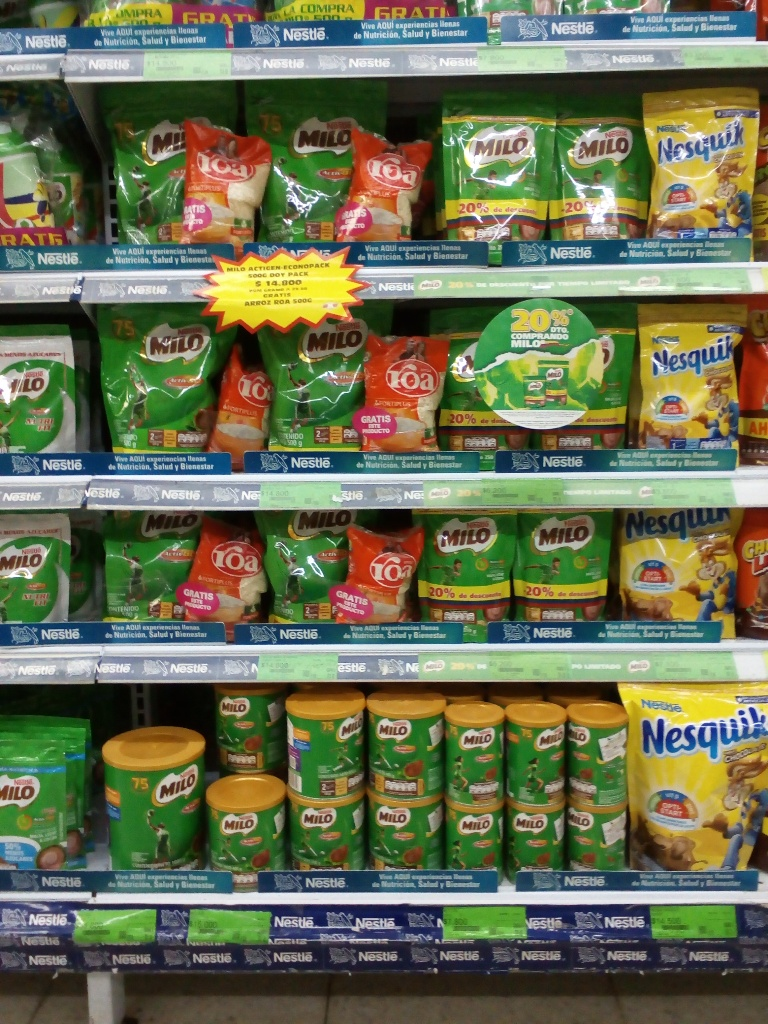COL0170203DYP25000: (446, 94, 551, 242)
COL0170203DYP50000: (104, 84, 236, 244)
COL0170203LAT20000: (450, 701, 508, 806)
COL0170203LAT40000: (220, 690, 283, 771)
COL0170205DYP20000: (1, 741, 77, 872)
COL0170303DYP20000: (648, 92, 757, 240)
